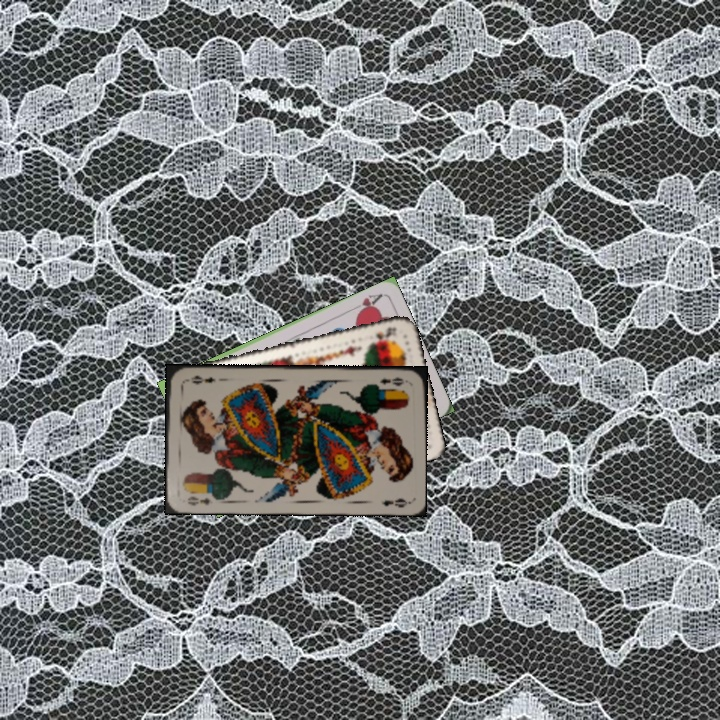EO: (183, 492, 215, 508), (376, 373, 406, 388)
HA: (347, 289, 385, 317)
SK: (372, 323, 399, 344)
